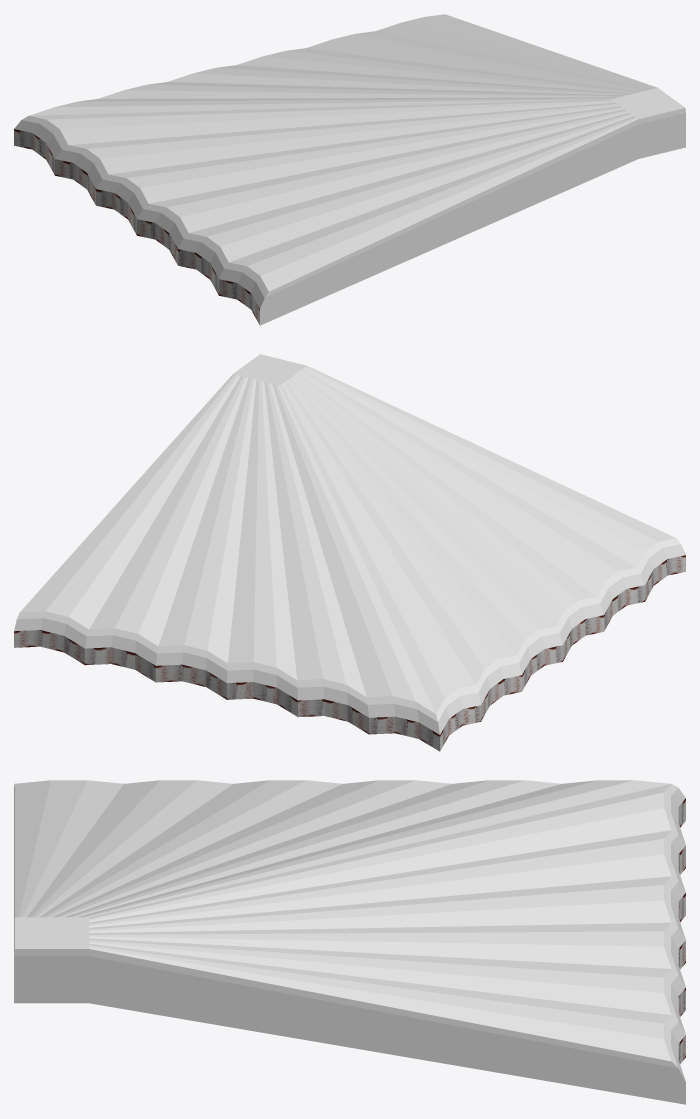
Rendered from RoofCorner.fbx.
3 renders of one model, top to bottom at view 1: azimuth 30°, elevation 25°; view 2: azimuth 150°, elevation 25°; view 3: azimuth 270°, elevation 25°, orthographic. The views are drawn at different scales.
Visible parts, largest first — view 1: Cube.036; view 2: Cube.036; view 3: Cube.036.
Boxes of the visible parts, box(x1,y1,x2,y2) form: Cube.036: box(14, 14, 685, 325); Cube.036: box(14, 354, 685, 751); Cube.036: box(14, 780, 685, 1104).
Size of the model in its own units: 450 by 115 by 450.
